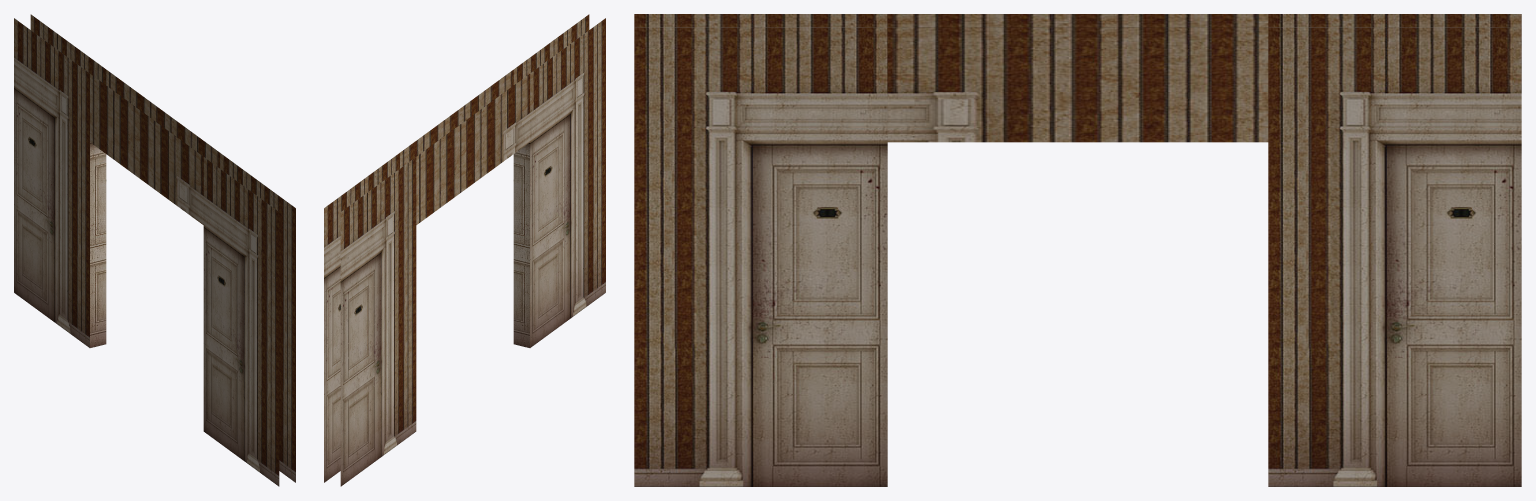
File: wall_door-frame.obj
The picture shows the model from 3 angles, left to right: view 1: azimuth 30°, elevation 25°; view 2: azimuth 150°, elevation 25°; view 3: azimuth 270°, elevation 25°; orthographic projection. The views are drawn at different scales.
Parts seen in each view (by area): view 1: wall_door-frame_Cube.028; view 2: wall_door-frame_Cube.028; view 3: wall_door-frame_Cube.028.
Part boxes in pixels (x1,y1,x2,y2): wall_door-frame_Cube.028: (14,14,295,486); wall_door-frame_Cube.028: (324,14,605,486); wall_door-frame_Cube.028: (634,14,1521,486).
Size of the model in its own units: 0.5 by 8 by 14.
